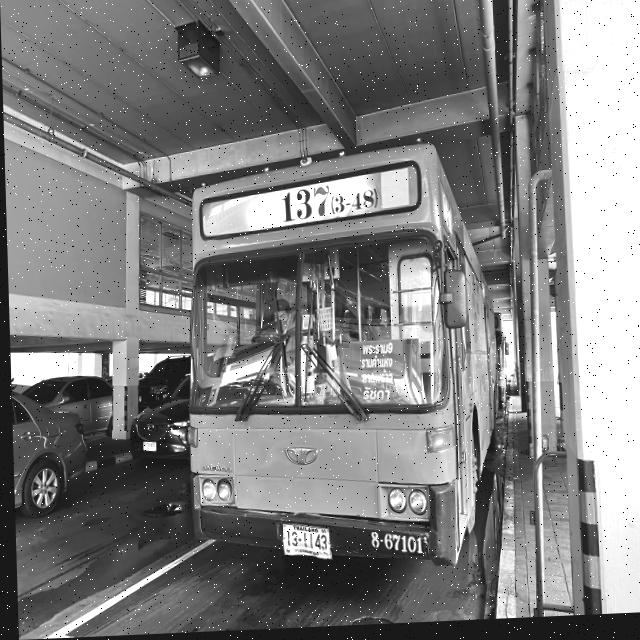BMTA-bus: (178, 144, 499, 582)
Bus-Line-Number: (271, 179, 379, 228)
Destination-Sign-Normal: (335, 339, 419, 411)
